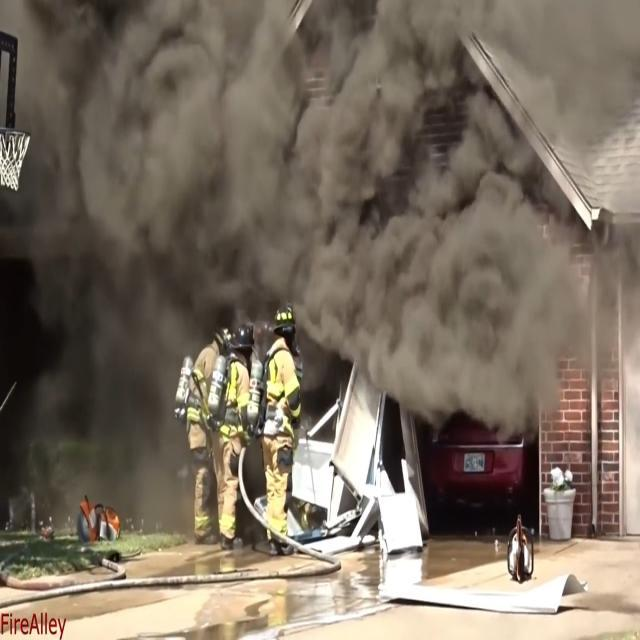Smoke: (58, 0, 563, 320)
